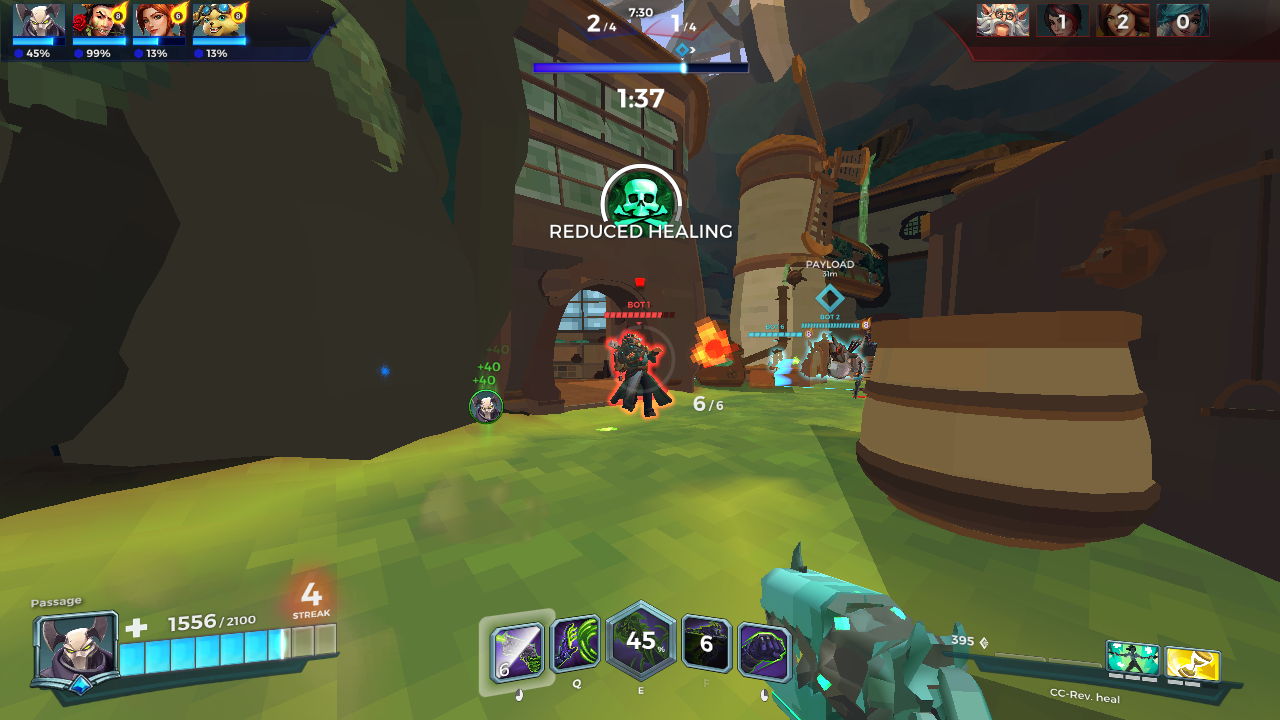model: (598, 325, 670, 418)
